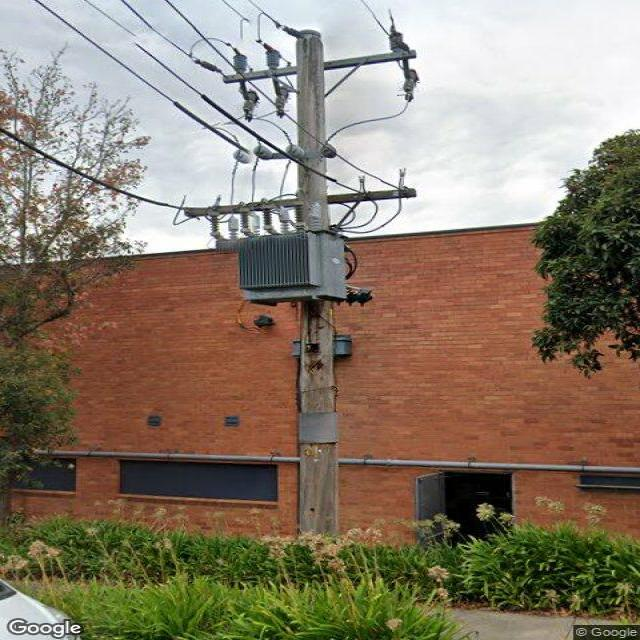HV-transmission: (193, 26, 420, 162)
crossarm: (184, 188, 416, 219), (222, 50, 415, 84)
timber-pole: (292, 27, 339, 539)
transformer: (211, 212, 348, 305)
